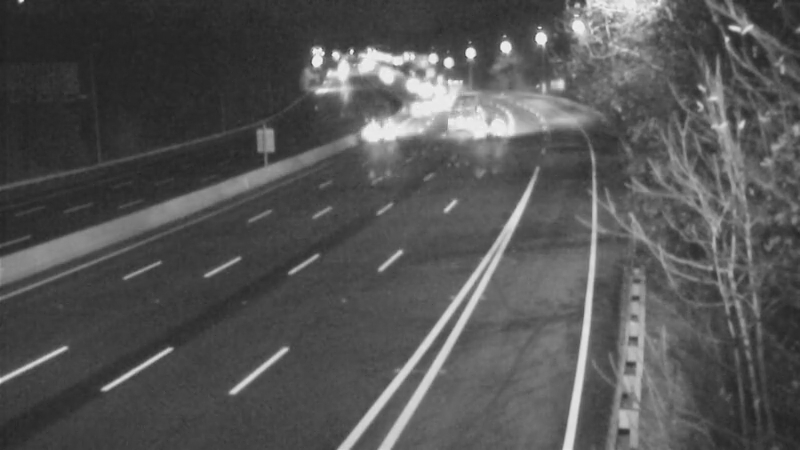vehicle: (430, 65, 480, 115), (420, 80, 470, 130), (438, 85, 488, 135), (401, 78, 451, 128), (473, 102, 523, 152), (366, 102, 416, 152)
